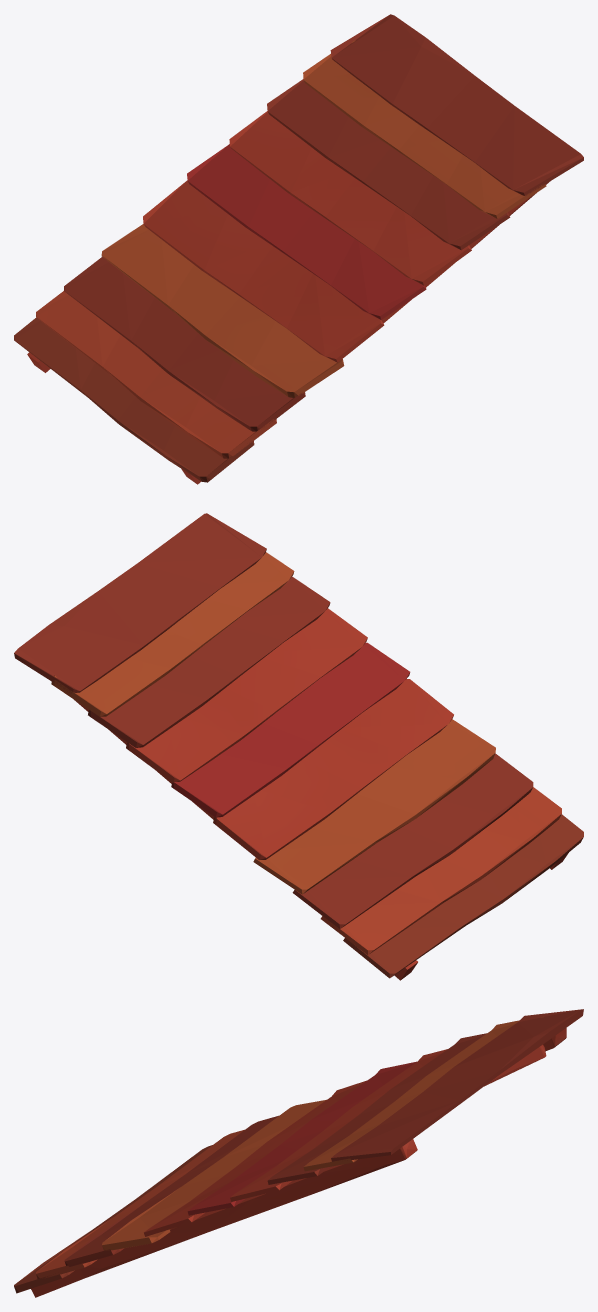
File: Roof.fbx
3 renders of one model, top to bottom at view 1: azimuth 30°, elevation 25°; view 2: azimuth 150°, elevation 25°; view 3: azimuth 330°, elevation 25°, orthographic.
Parts seen in each view (by area): view 1: Roof; view 2: Roof; view 3: Roof.
Part boxes in pixels (box(x1,y1,x2,y2)): Roof: box(14, 14, 583, 484); Roof: box(14, 513, 583, 980); Roof: box(14, 1009, 583, 1297).
Size of the model in its own units: 3.44 by 2.16 by 3.
